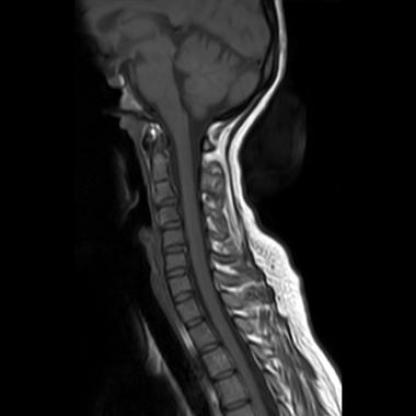Disc Bulgerotation: (162, 241, 190, 258), (166, 265, 193, 281), (170, 290, 199, 304)
